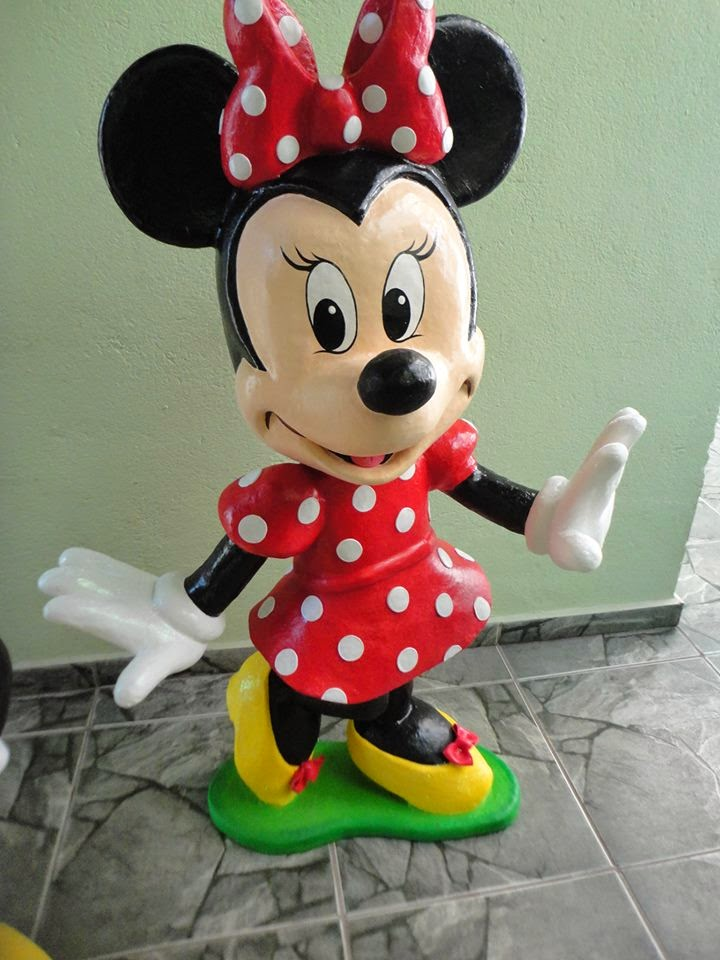Mickey: (91, 9, 533, 493)
